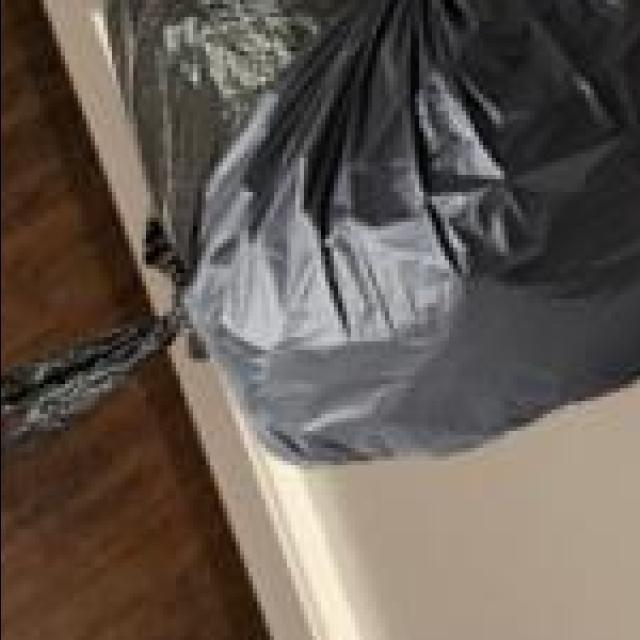Trashbag: (168, 0, 600, 435)
